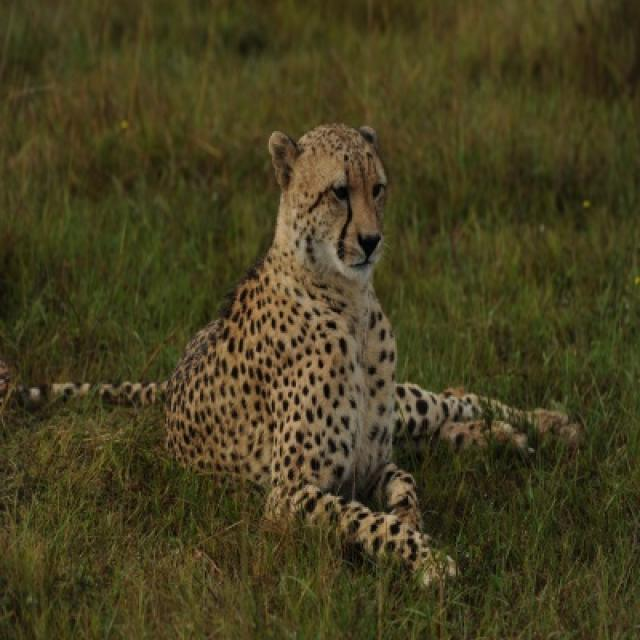Cheetah: (166, 125, 576, 584)
